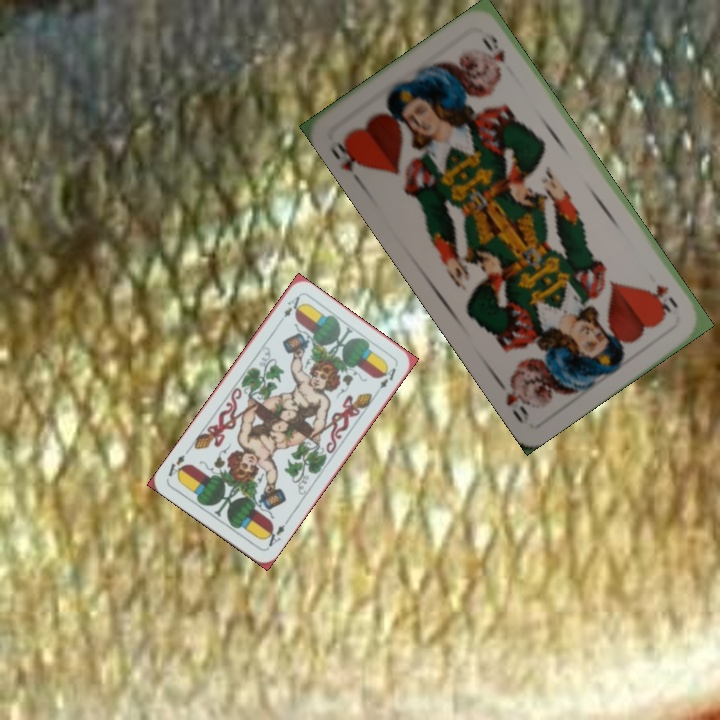EA: (274, 292, 303, 327), (261, 516, 291, 549)
HO: (325, 132, 368, 187), (650, 281, 681, 316)
